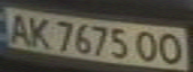5: (109, 25, 133, 61)
6: (72, 21, 93, 55)
7: (51, 18, 75, 53), (87, 24, 112, 57)
A: (3, 10, 33, 45)
K: (24, 15, 54, 48)
O: (154, 30, 187, 65), (133, 29, 163, 63)
